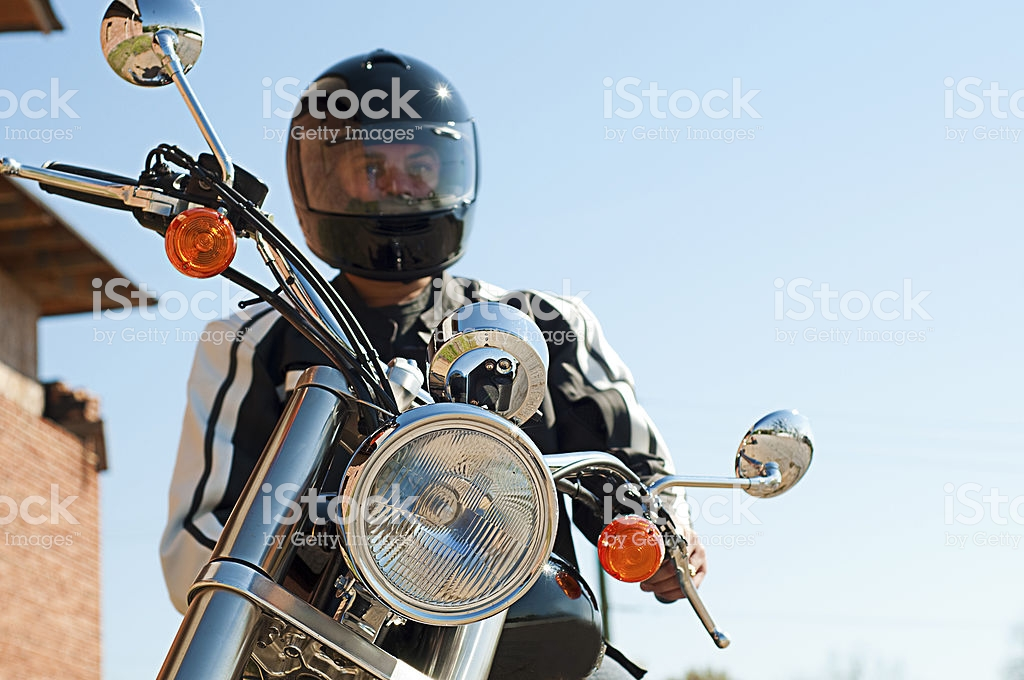helmet: (286, 44, 485, 285)
